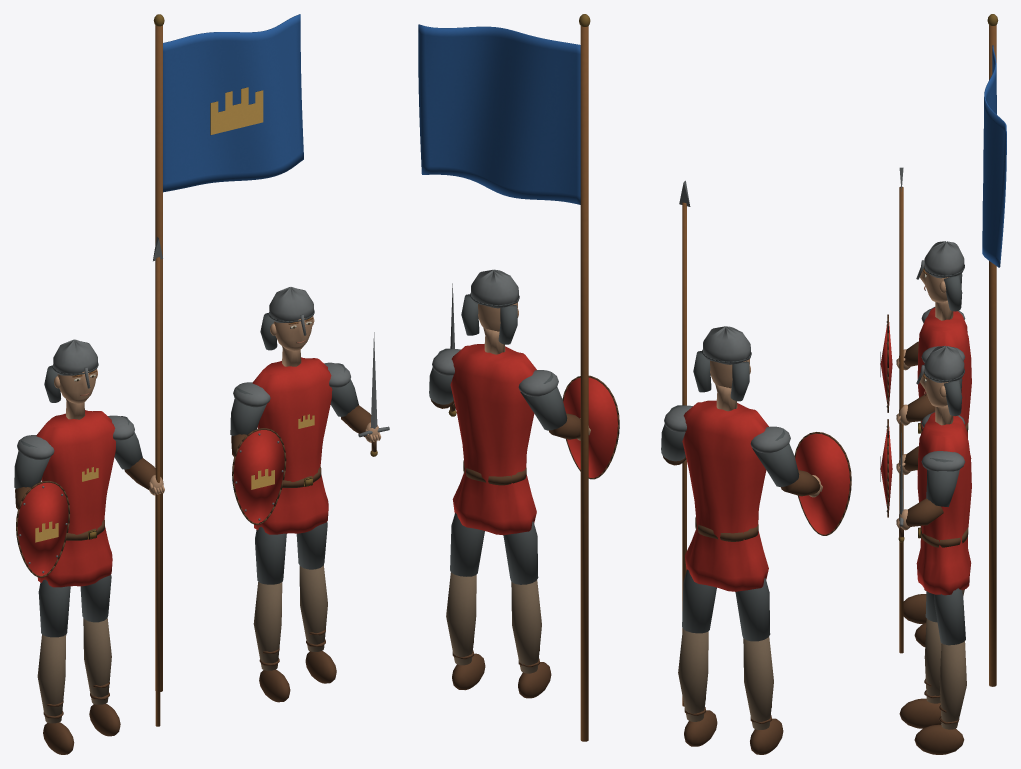
File: SM_HuesteEstandarteNatural_A_LOD0.fbx
3 views of the same model, side by side, from view 1: azimuth 30°, elevation 25°; view 2: azimuth 150°, elevation 25°; view 3: azimuth 270°, elevation 25° (orthographic). The views are drawn at different scales.
Visible parts, largest first — view 1: SM_HuesteEstandarteNatural_A_LOD0; view 2: SM_HuesteEstandarteNatural_A_LOD0; view 3: SM_HuesteEstandarteNatural_A_LOD0.
Part boxes in pixels (x1,y1,x2,y2): SM_HuesteEstandarteNatural_A_LOD0: (14,14,389,754); SM_HuesteEstandarteNatural_A_LOD0: (418,14,851,754); SM_HuesteEstandarteNatural_A_LOD0: (880,14,1006,754).
Bounding box in the file's own units: 0.3232 × 0.553 × 0.0942.
Materials: 1 (1 with a texture image).
